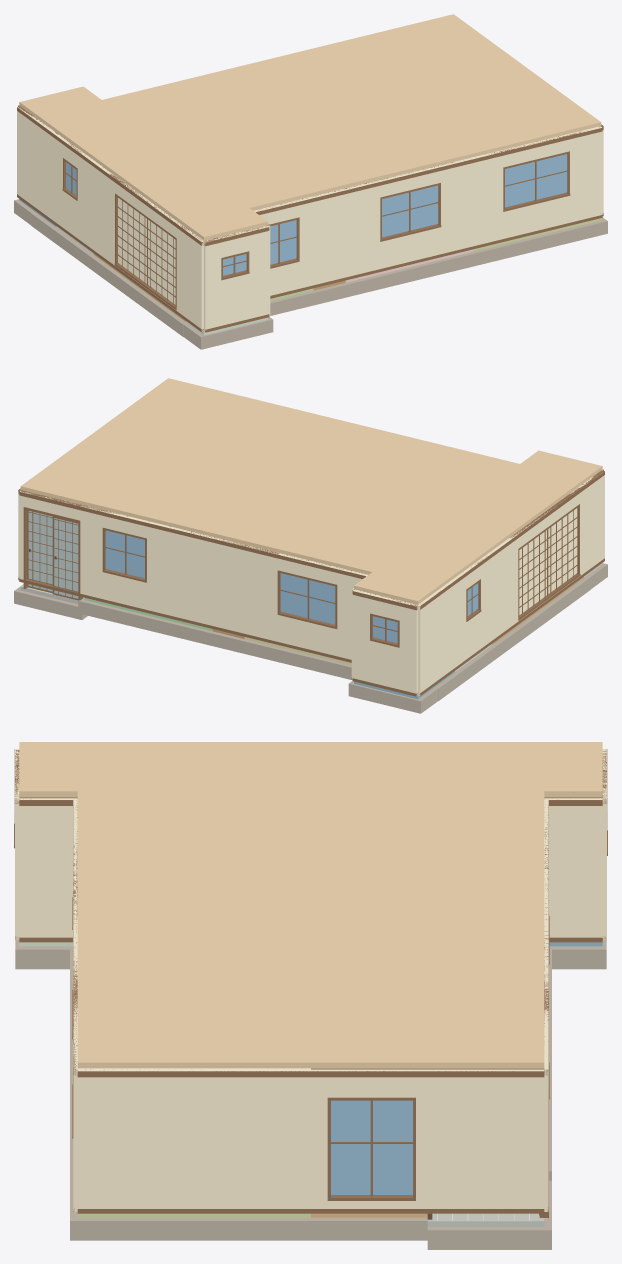
File: sakura-interior.glb
3 renders of one model, top to bottom at view 1: azimuth 30°, elevation 25°; view 2: azimuth 150°, elevation 25°; view 3: azimuth 270°, elevation 25°, orthographic. The views are drawn at different scales.
Visible parts, largest first — view 1: wall:south-main, ceiling:living, ceiling:sisters, 独立室内底座, wall:west-upper, ceiling:grandparents, ceiling:kitchen, ceiling:parents, wall:west-engawa, ceiling:corridor, wall:toilet-south, ceiling:engawa (+8 smaller); view 2: wall:north-main, 独立室内底座, ceiling:living, ceiling:sisters, wall:west-upper, ceiling:kitchen, ceiling:parents, wall:west-engawa, ceiling:grandparents, ceiling:corridor, wall:bath-north, 门板几何 (×2) (+10 smaller); view 3: wall:east-main, ceiling:living, ceiling:sisters, ceiling:kitchen, ceiling:grandparents, ceiling:parents, ceiling:corridor, 独立室内底座, wall:toilet-east, wall:bath-east, ceiling:entry, ceiling:hall (+12 smaller).
Part boxes in pixels (x1=…): wall:south-main: x1=253, y1=126, x2=602, y2=298; ceiling:living: x1=400, y1=68, x2=601, y2=156; ceiling:sisters: x1=272, y1=99, x2=473, y2=187; 独立室内底座: x1=14, y1=199, x2=607, y2=349; wall:west-upper: x1=17, y1=106, x2=111, y2=264; ceiling:grandparents: x1=144, y1=138, x2=313, y2=215; ceiling:kitchen: x1=262, y1=30, x2=444, y2=101; ceiling:parents: x1=102, y1=69, x2=284, y2=140; wall:west-engawa: x1=109, y1=174, x2=185, y2=318; ceiling:corridor: x1=93, y1=70, x2=462, y2=172; wall:toilet-south: x1=204, y1=225, x2=269, y2=332; ceiling:engawa: x1=111, y1=162, x2=216, y2=226; wall:north-main: x1=19, y1=490, x2=368, y2=662; 独立室内底座: x1=14, y1=563, x2=607, y2=713; ceiling:living: x1=95, y1=378, x2=295, y2=463; ceiling:sisters: x1=222, y1=409, x2=423, y2=494; wall:west-upper: x1=418, y1=538, x2=512, y2=695; ceiling:kitchen: x1=84, y1=461, x2=267, y2=536; ceiling:parents: x1=244, y1=500, x2=427, y2=574; wall:west-engawa: x1=510, y1=484, x2=586, y2=628; ceiling:grandparents: x1=382, y1=448, x2=551, y2=525; ceiling:corridor: x1=140, y1=448, x2=510, y2=550; wall:bath-north: x1=352, y1=589, x2=418, y2=696; 门板几何 (×2): x1=27, y1=510, x2=78, y2=600; wall:east-main: x1=77, y1=1068, x2=544, y2=1213; ceiling:living: x1=77, y1=964, x2=310, y2=1068; ceiling:sisters: x1=77, y1=865, x2=310, y2=963; ceiling:kitchen: x1=369, y1=914, x2=544, y2=1013; ceiling:grandparents: x1=77, y1=766, x2=310, y2=840; ceiling:parents: x1=369, y1=791, x2=544, y2=889; ceiling:corridor: x1=311, y1=742, x2=369, y2=1013; 独立室内底座: x1=15, y1=940, x2=606, y2=1249; wall:toilet-east: x1=19, y1=798, x2=77, y2=942; wall:bath-east: x1=544, y1=798, x2=602, y2=942; ceiling:entry: x1=427, y1=1013, x2=544, y2=1069; ceiling:hall: x1=311, y1=1013, x2=427, y2=1069.
Size of the model in its own units: 12.08 by 3.17 by 9.27.
